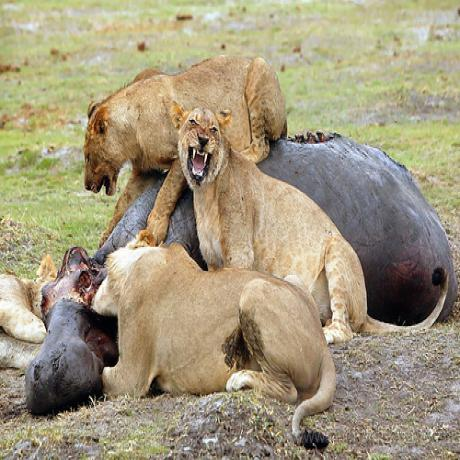Lion: (88, 226, 336, 452), (170, 100, 374, 343), (84, 55, 286, 246), (0, 252, 58, 365)
